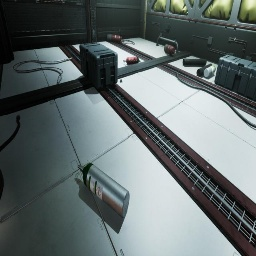0: (78, 163, 130, 218), (204, 65, 216, 77)
FireExtinguisher ]: (123, 56, 139, 64)
NitrogenTank ,: (107, 34, 122, 43), (164, 44, 175, 56)
